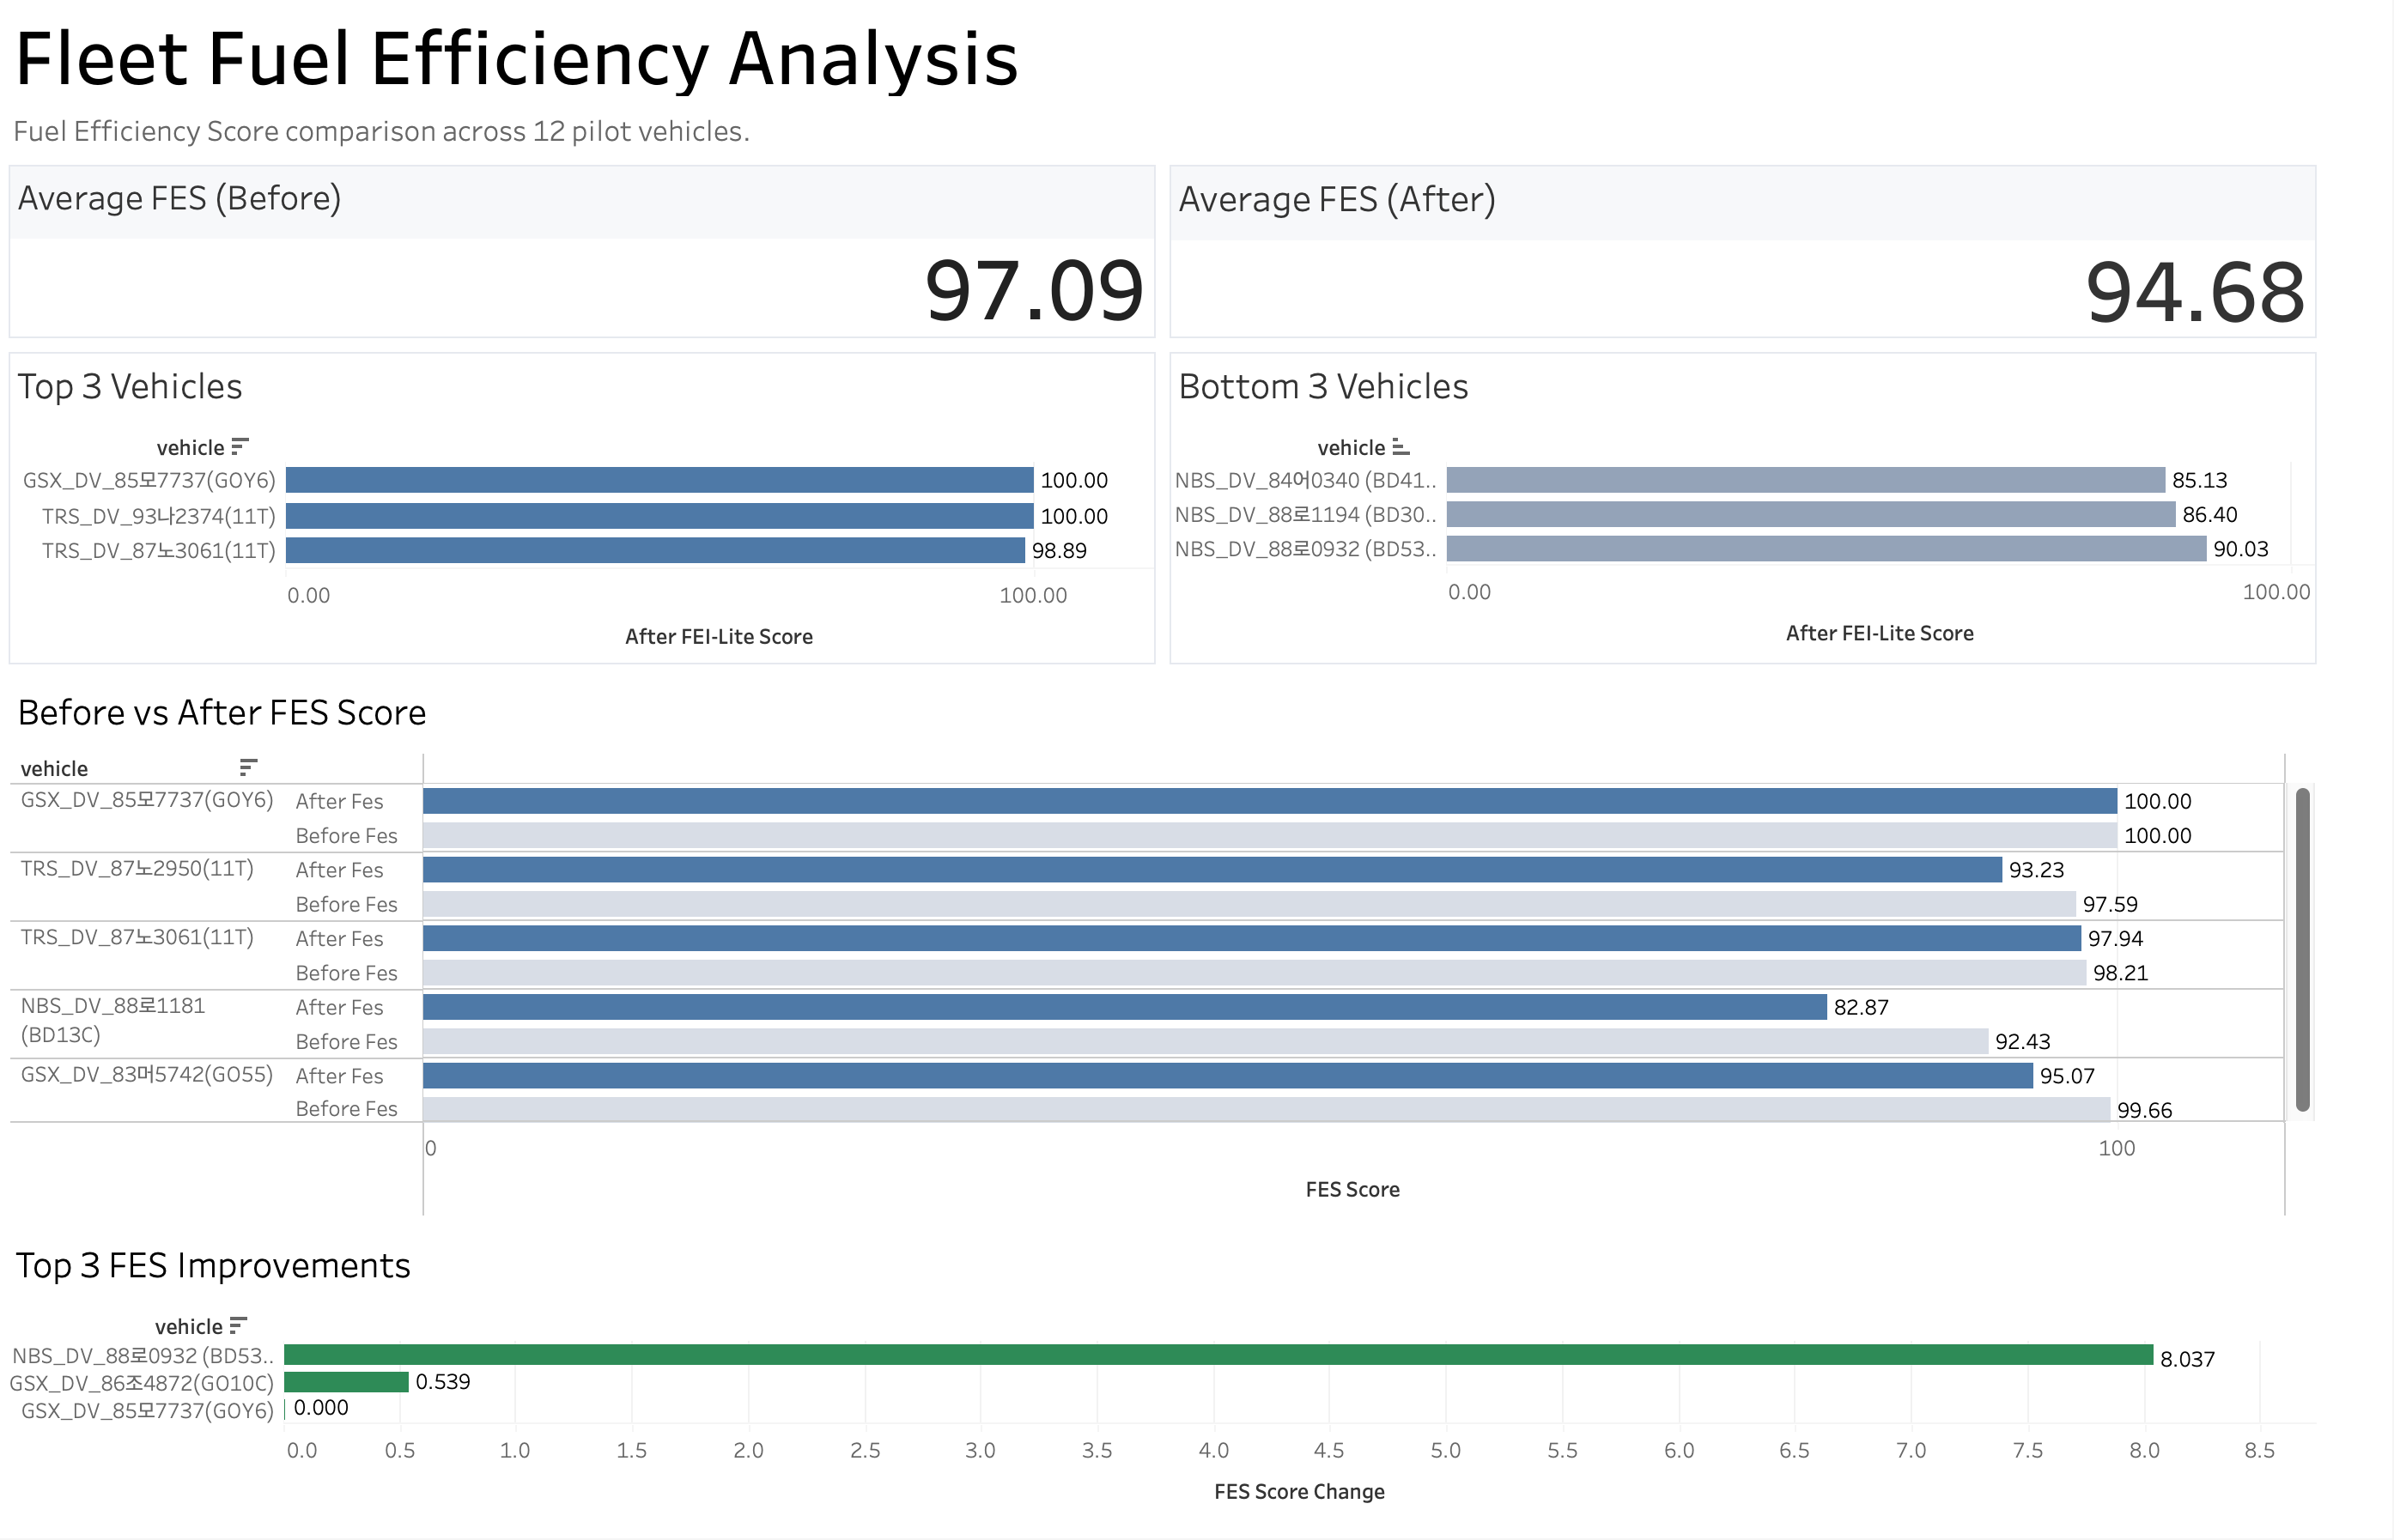

The page's visual inventory and layout, read from the dashboard file:
{"tool":"tableau","page":{"name":"Dashboard - Fuel Analytics","canvas":[1000,1000],"units":"permille","ordinal":3},"visuals":[{"type":"text","box":[5.7,8.9,965.7,62.2]},{"type":"legend","title":"09 FES Change Ranking","param":"[federated.0992fnj1tse3bq1fruqfg14s3cs4].[sum:fes_change:qk]","box":[971.4,8.9,22.9,24.4]},{"type":"text","box":[5.7,71.1,965.7,35.6]},{"type":"worksheet","title":"06 KPI - Average FES Before","mark":"Automatic","box":[5.7,106.7,482.9,121.1]},{"type":"worksheet","title":"07 KPI - Average FES After","mark":"Automatic","box":[488.6,106.7,482.9,121.1]},{"type":"worksheet","title":"10 Top Performing Vehicles","mark":"Automatic","rows":["vehicle"],"cols":["after_fei_lite"],"box":[5.7,227.8,482.9,211.1]},{"type":"worksheet","title":"11 Bottom Performing Vehicles ","mark":"Automatic","rows":["vehicle"],"cols":["after_fei_lite"],"box":[488.6,227.8,482.9,211.1]},{"type":"worksheet","title":"08 Vehicle FES Comparison","mark":"Automatic","rows":["vehicle"],"box":[5.7,438.9,965.7,358.9]},{"type":"worksheet","title":"09 FES Change Ranking","mark":"Bar","rows":["vehicle"],"cols":["fes_change"],"box":[5.7,797.8,965.7,193.3]}]}

Visuals, with their boxes on the dashboard's canvas, which has no fixed pixel size, in thousandths of its width and height (x1, y1, x2, y2). These are canvas units, not pixel positions in the 2394x1540 screenshot, which may show the page scaled, cropped or inside an application window:
text: bbox(6, 9, 971, 71)
"09 FES Change Ranking" legend: bbox(971, 9, 994, 33)
text: bbox(6, 71, 971, 107)
"06 KPI - Average FES Before" worksheet: bbox(6, 107, 489, 228)
"07 KPI - Average FES After" worksheet: bbox(489, 107, 972, 228)
"10 Top Performing Vehicles" worksheet: bbox(6, 228, 489, 439)
"11 Bottom Performing Vehicles " worksheet: bbox(489, 228, 972, 439)
"08 Vehicle FES Comparison" worksheet: bbox(6, 439, 971, 798)
"09 FES Change Ranking" worksheet (Bar marks): bbox(6, 798, 971, 991)
